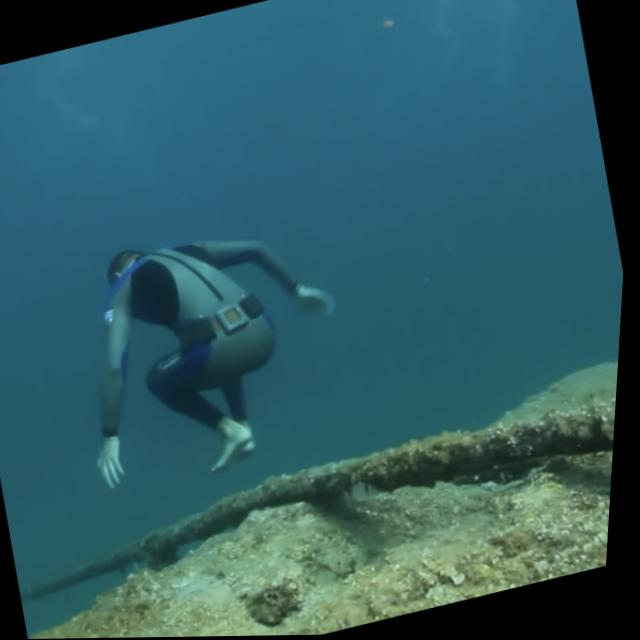human: (43, 193, 380, 512)
